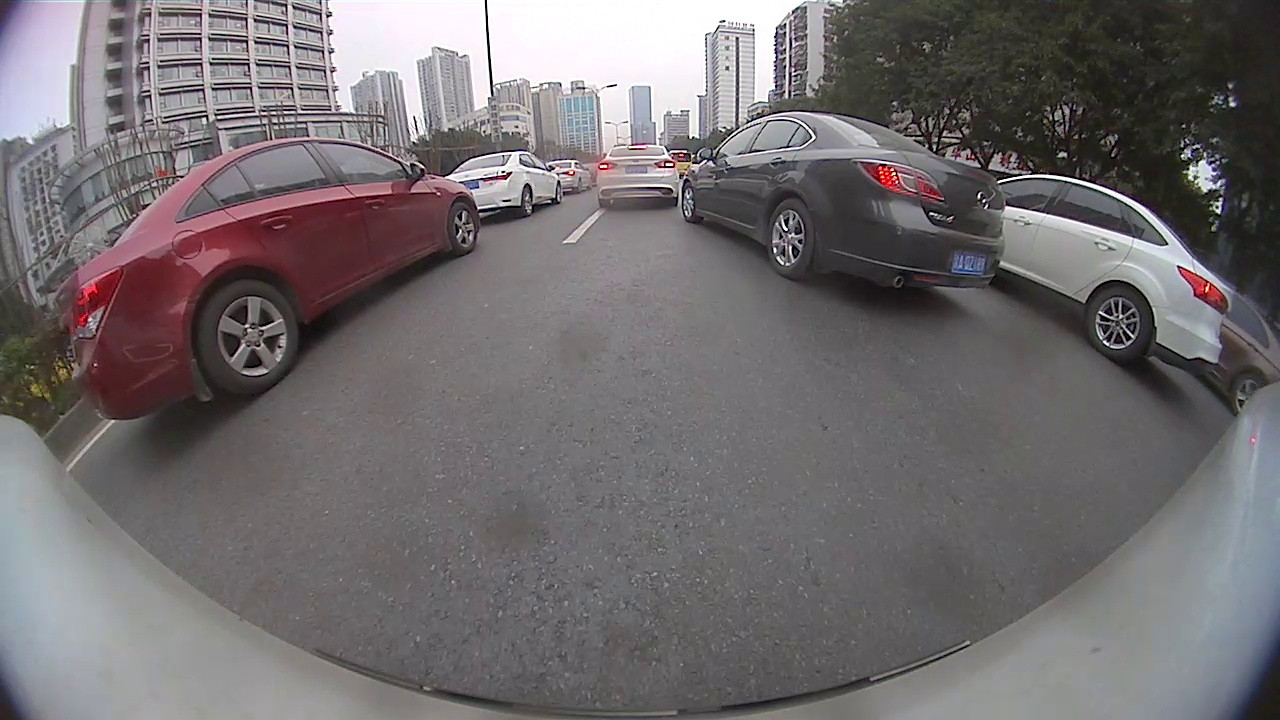bus: (669, 147, 696, 179)
car: (57, 133, 480, 422), (680, 108, 1006, 292), (994, 173, 1232, 371), (1198, 281, 1279, 414), (444, 148, 563, 219), (593, 142, 681, 210), (547, 155, 592, 195)
front: (452, 201, 478, 252), (682, 183, 697, 221), (553, 183, 566, 206)
rear: (195, 280, 300, 397), (1085, 283, 1153, 365), (765, 197, 816, 278), (1229, 372, 1264, 416), (521, 184, 534, 218)
